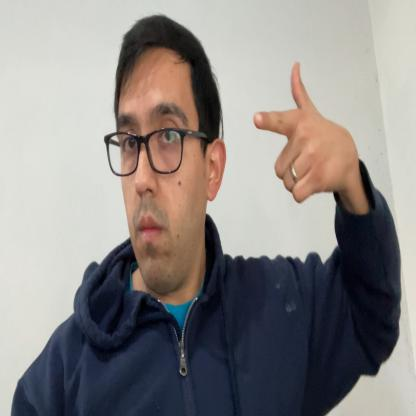G: (254, 60, 355, 203)
